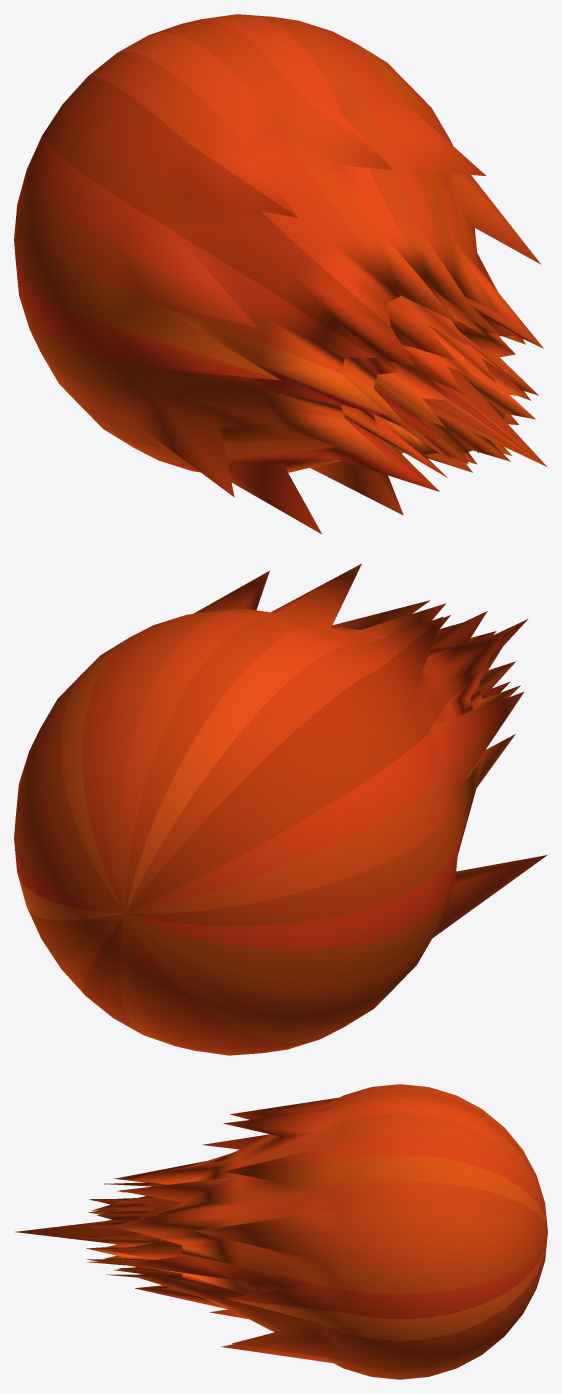
File: fireBall.obj
3 renders of one model, top to bottom at view 1: azimuth 30°, elevation 25°; view 2: azimuth 150°, elevation 25°; view 3: azimuth 270°, elevation 25°, orthographic. The views are drawn at different scales.
Visible parts, largest first — view 1: 球; view 2: 球; view 3: 球.
Part boxes in pixels (box(x1,y1,x2,y2)): 球: box(14, 14, 546, 534); 球: box(14, 563, 547, 1055); 球: box(15, 1084, 547, 1379).
Bounding box in the file's own units: 2 × 2 × 3.61.
1 material, 1 textured.
